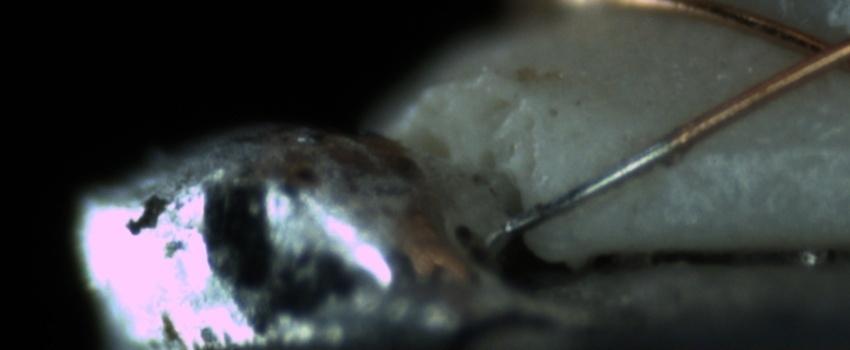CL: (776, 17, 849, 82)
DL: (678, 116, 849, 180)
TS: (503, 136, 680, 239)
